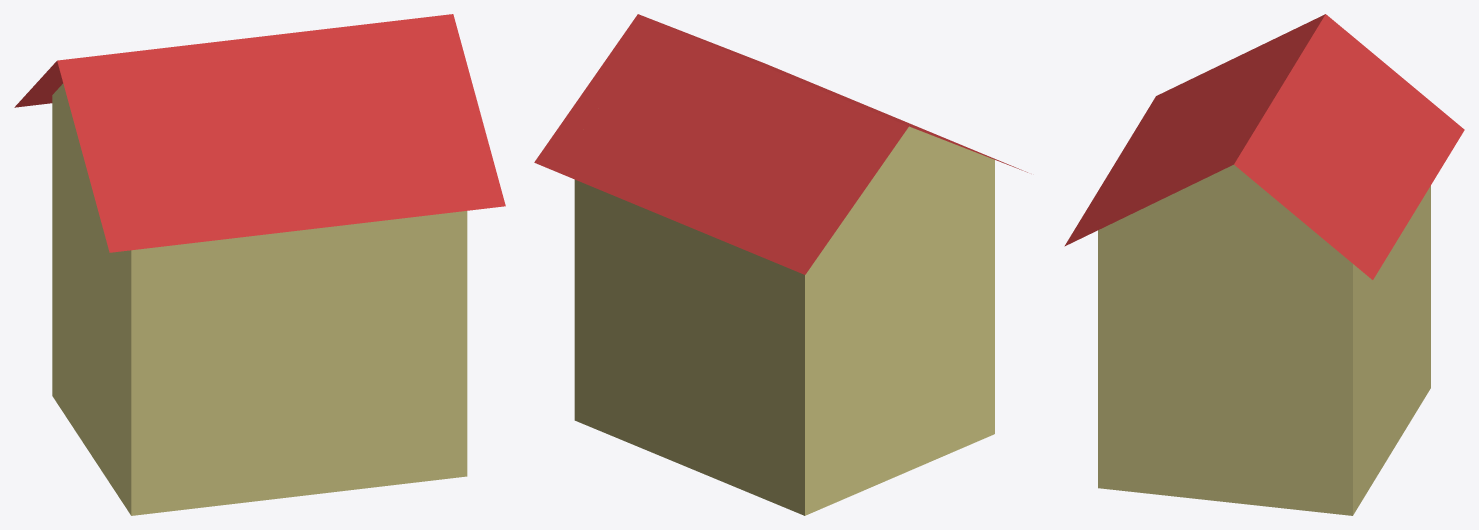
The picture shows the model from 3 angles, left to right: view 1: azimuth 30°, elevation 25°; view 2: azimuth 150°, elevation 25°; view 3: azimuth 270°, elevation 25°; orthographic projection. The views are drawn at different scales.
Bounding box in the file's own units: 11.72 × 10.77 × 10.4.
